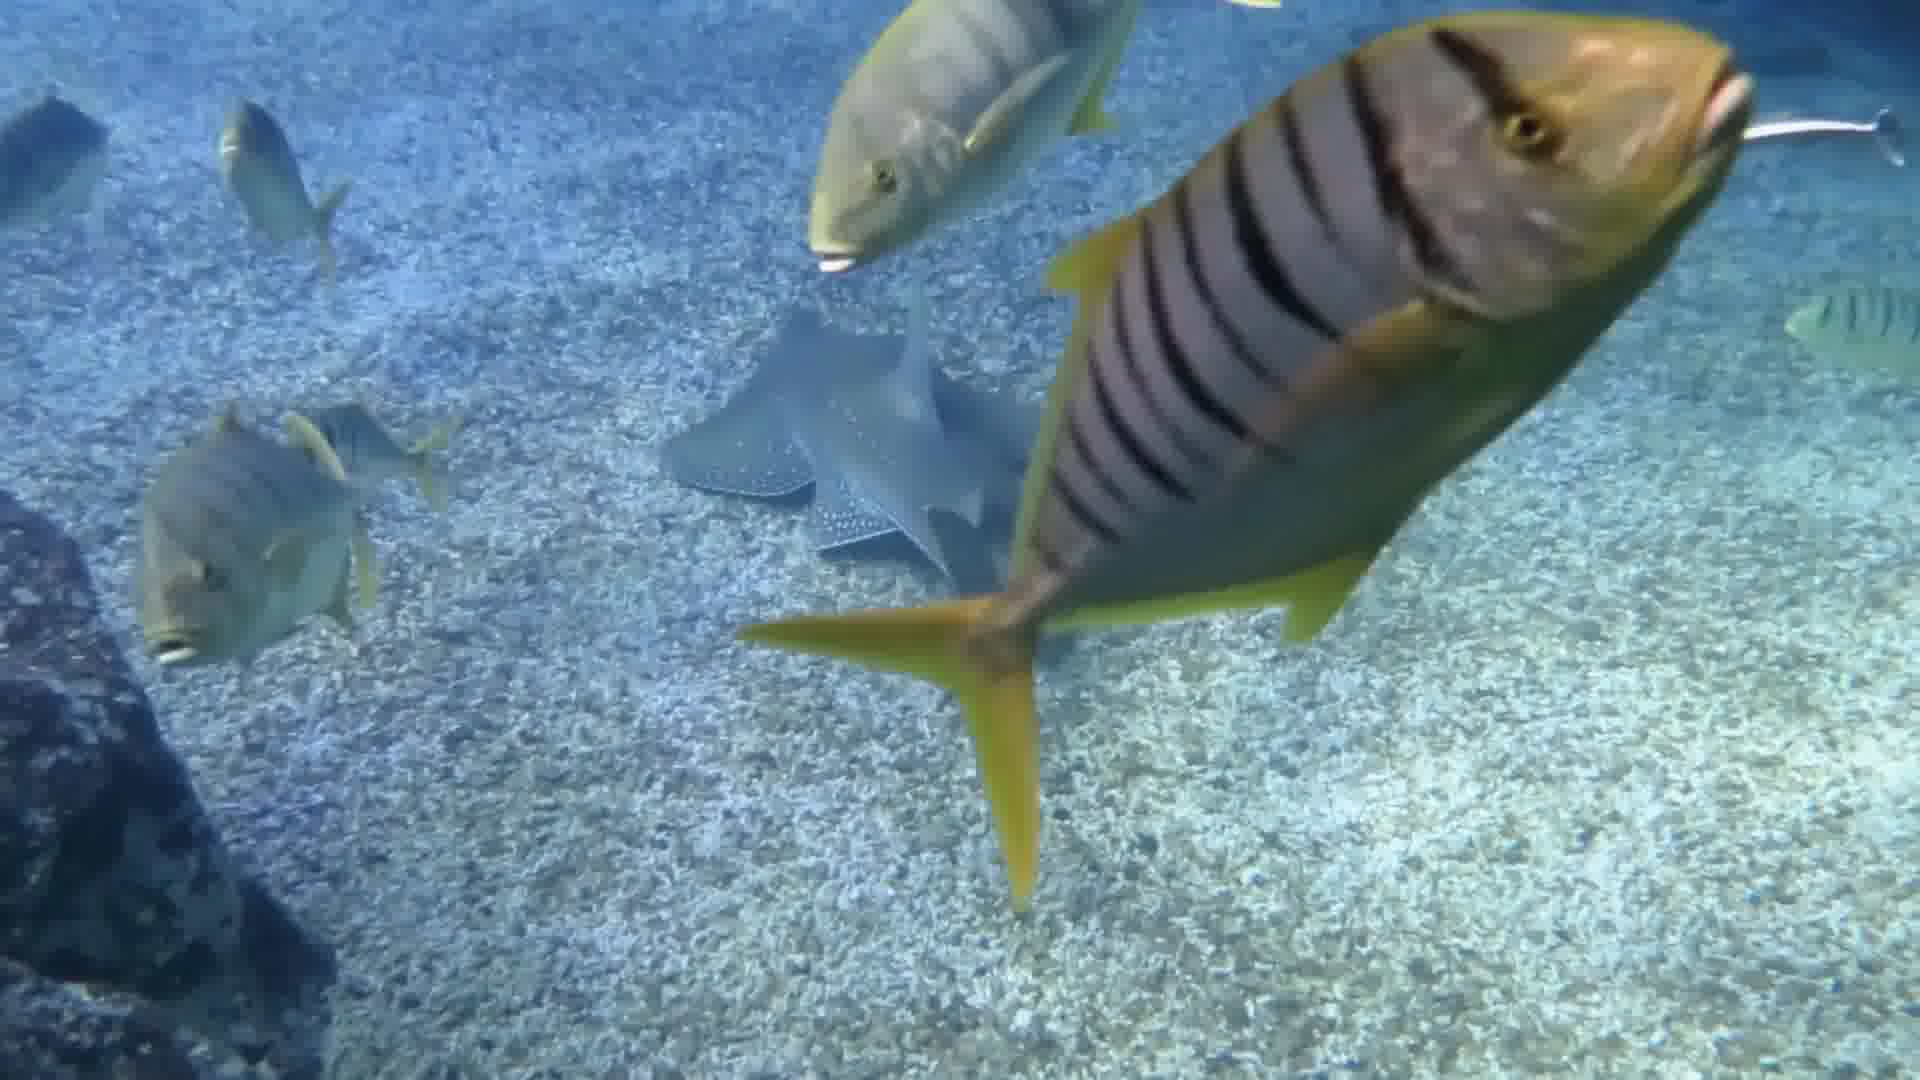Rhychobatus djiddensis: (665, 309, 993, 588)
